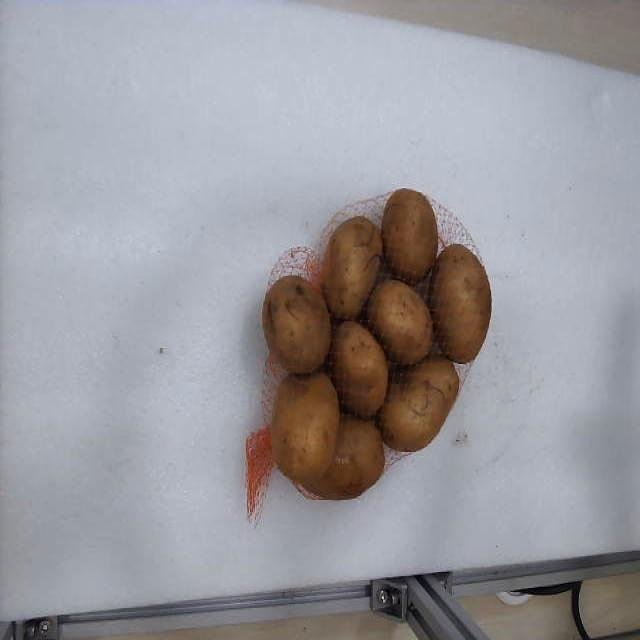potato: (378, 357, 459, 451), (272, 372, 339, 484), (430, 243, 491, 362), (264, 275, 331, 374), (306, 415, 384, 499), (322, 217, 382, 319), (329, 322, 386, 416), (368, 282, 432, 364), (384, 188, 438, 283)
